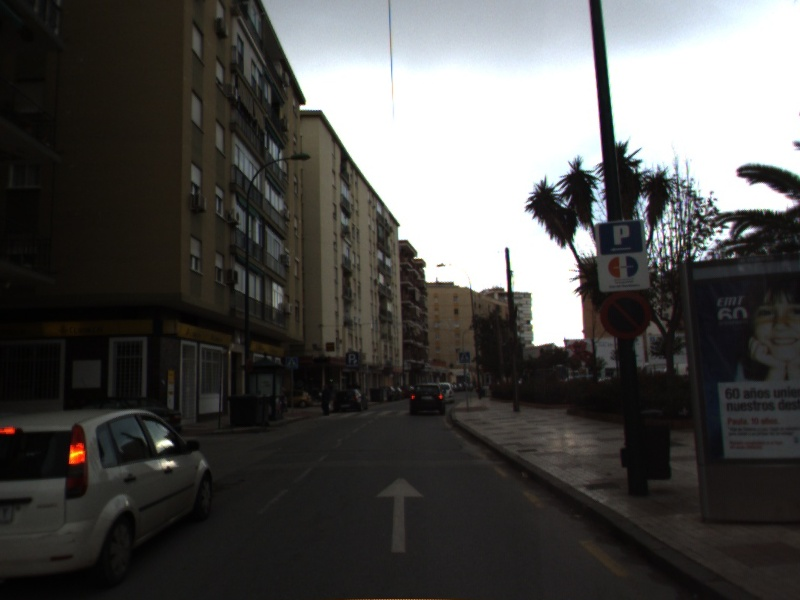STRAIGHT: (373, 475, 426, 555)
